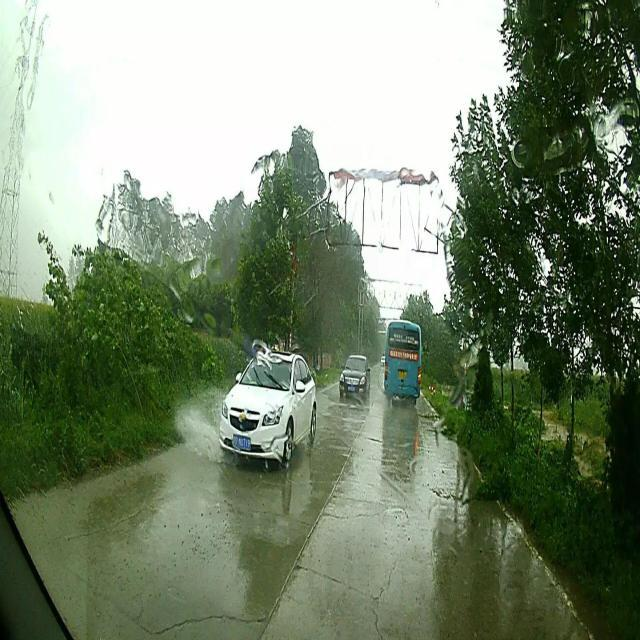car: (219, 350, 317, 468), (338, 356, 371, 400)
